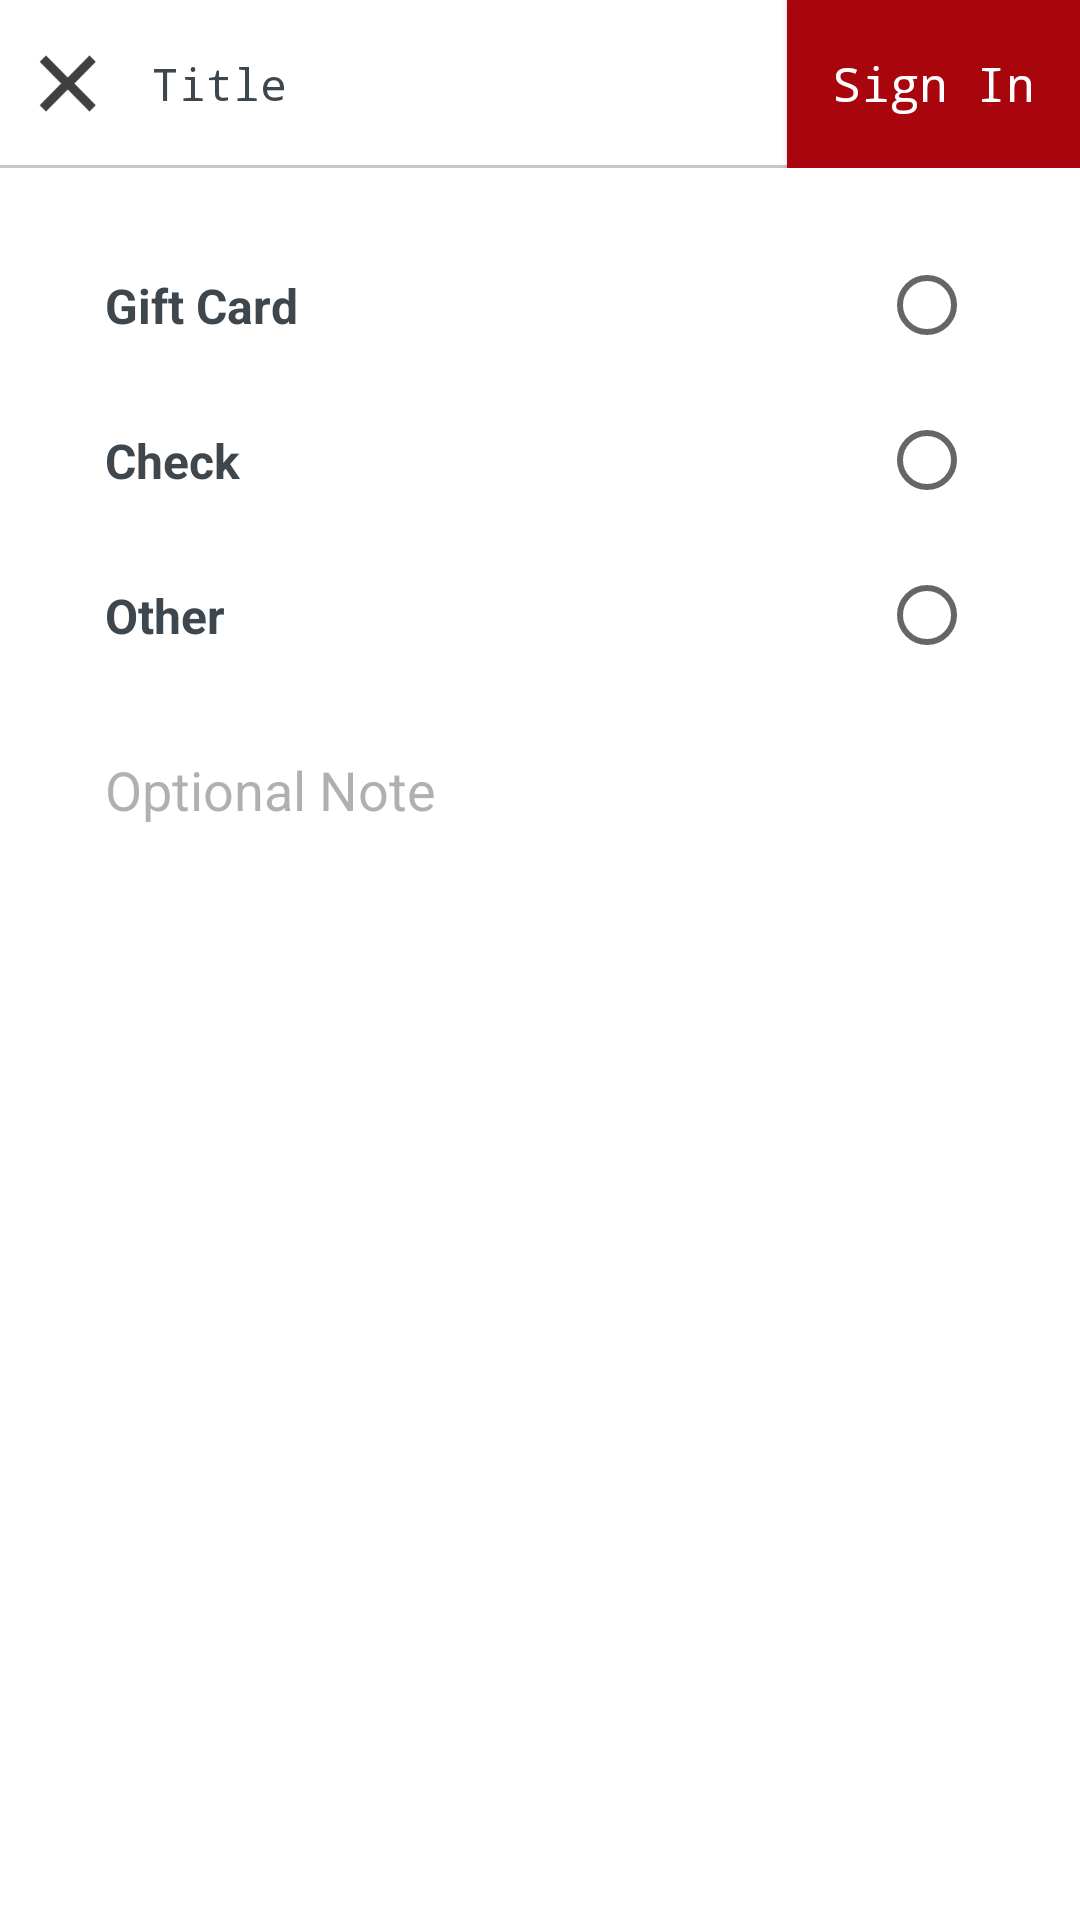

Icon click points for this 1080px×1920px phone screenshot, format (x,y):
close: (68,83)
